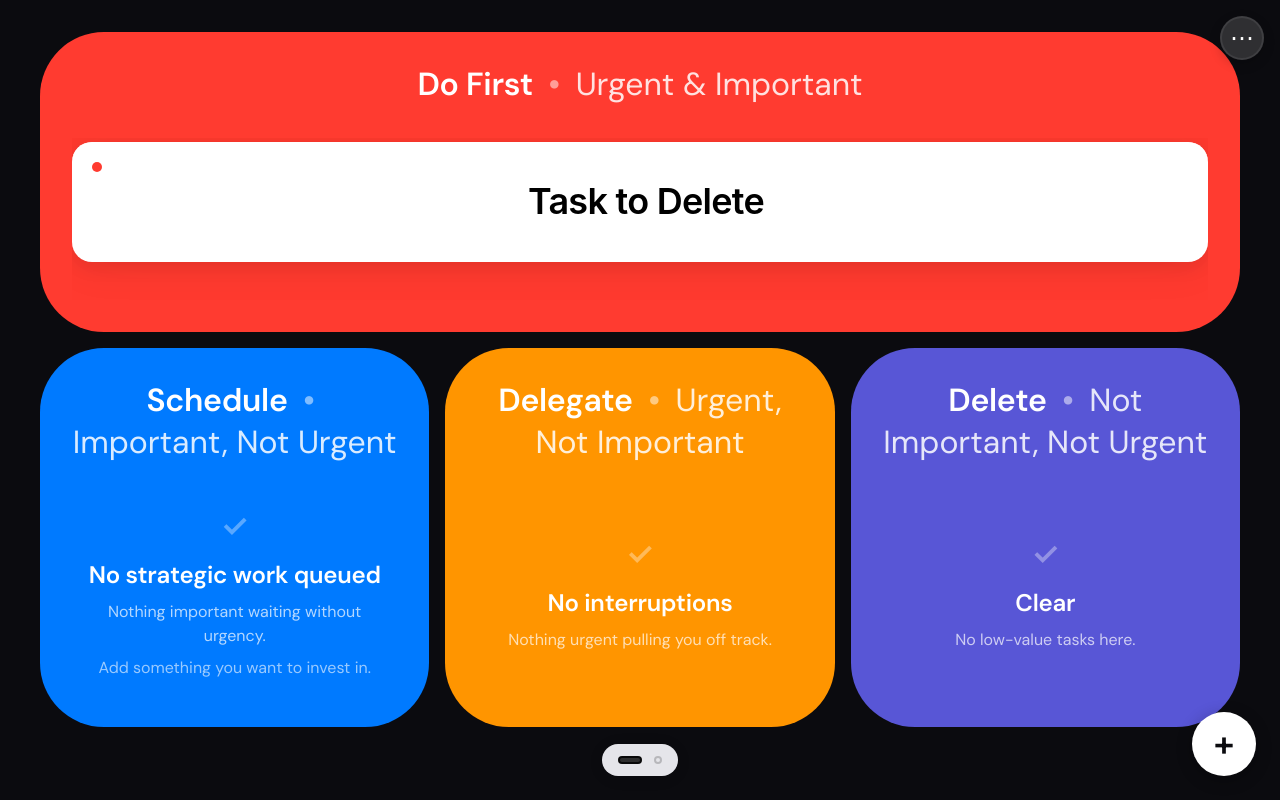
Test: Task Details Modal › delete removes task from quadrant
Expected: the element with test id "quadrant-Q1" shows "Task to Delete", [528, 179, 764, 223]
Note: Open modal
What coordinates should you click on to do the following:
click the button "Task to Delete"
I would click on:
 (640, 202)
Its box is [72, 142, 1208, 262].
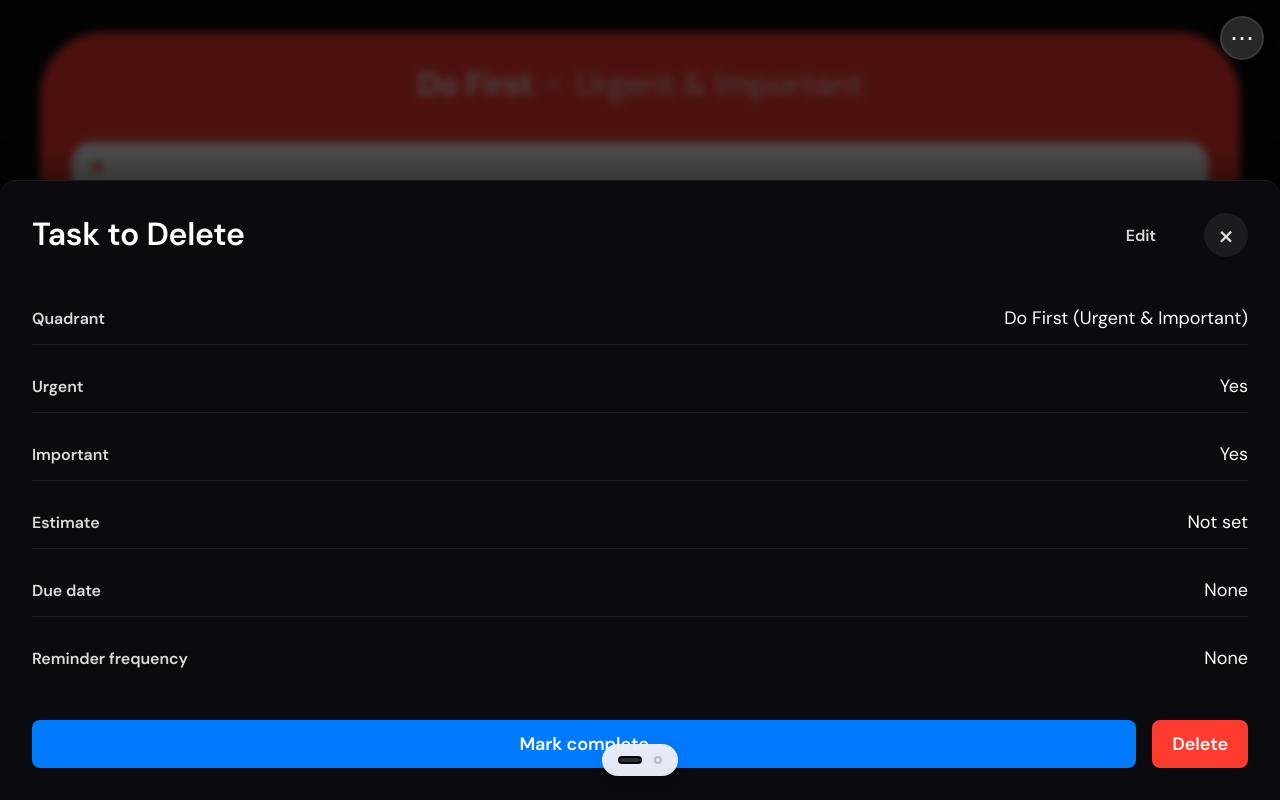
Now the dialog with test id "task-modal" is shown
Note: Click Delete
What coordinates should you click on to do the following:
click the button with test id "delete-button"
I would click on:
 (1200, 744)
Its box is [1152, 720, 1248, 768].
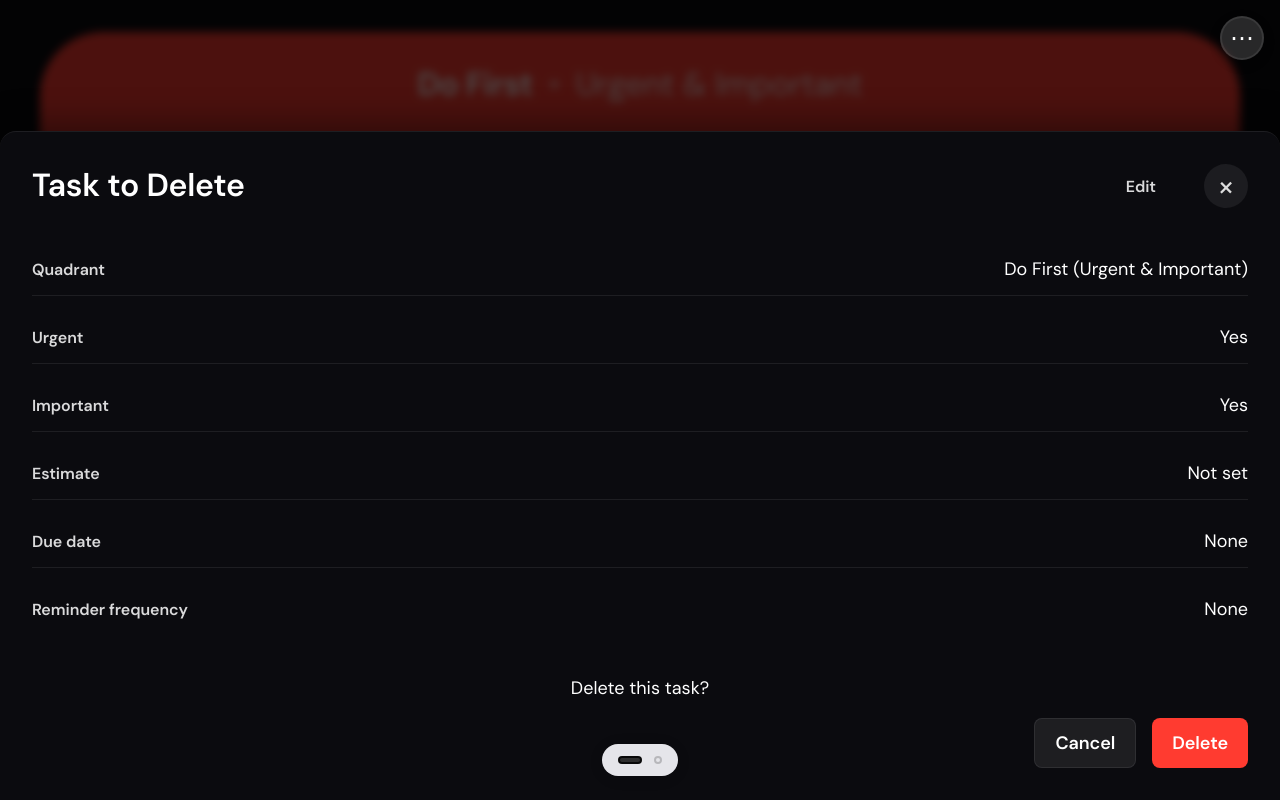
Now the button with test id "delete-confirm-button" is shown
What coordinates should you click on to do the following:
click the button with test id "delete-confirm-button"
I would click on:
 (1200, 743)
Its box is [1152, 718, 1248, 768].
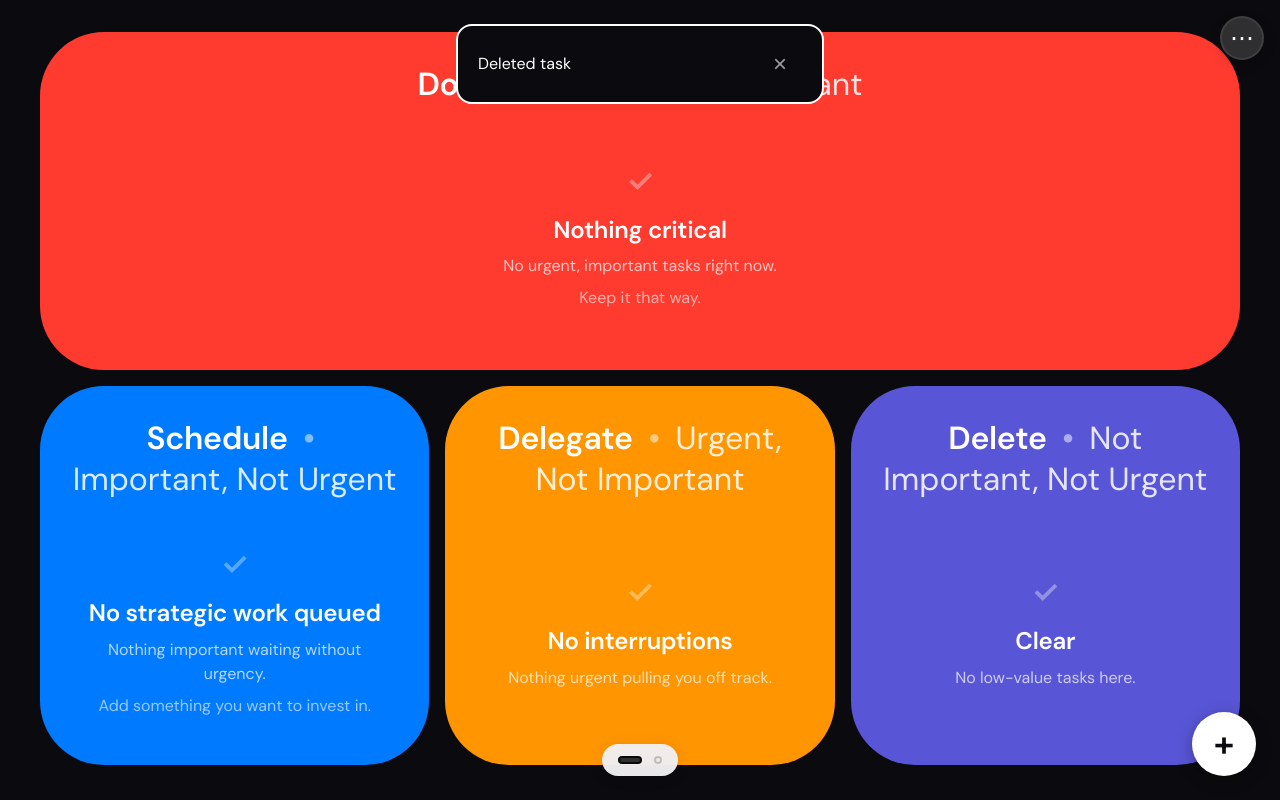
Now the element with test id "quadrant-Q1" no longer shows "Task to Delete", box [40, 32, 1240, 370]
Now the text "Deleted task" is shown, box [478, 53, 571, 74]
